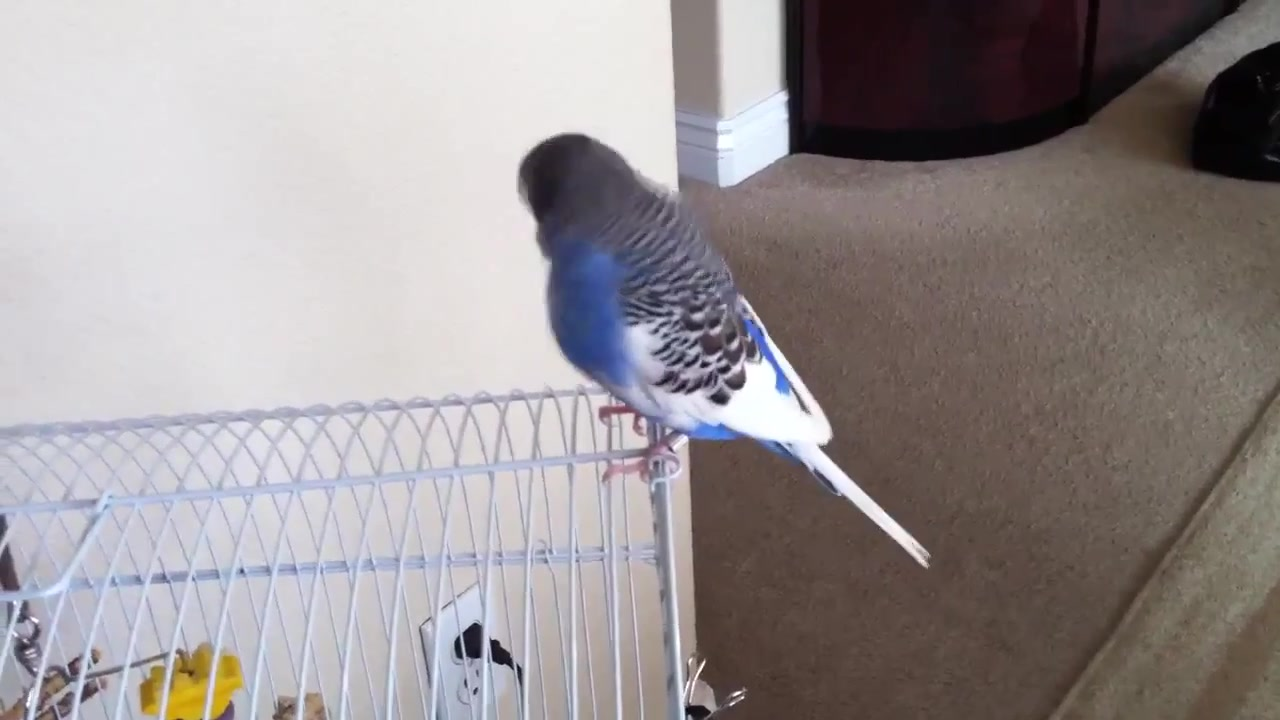bird: (516, 132, 934, 570)
